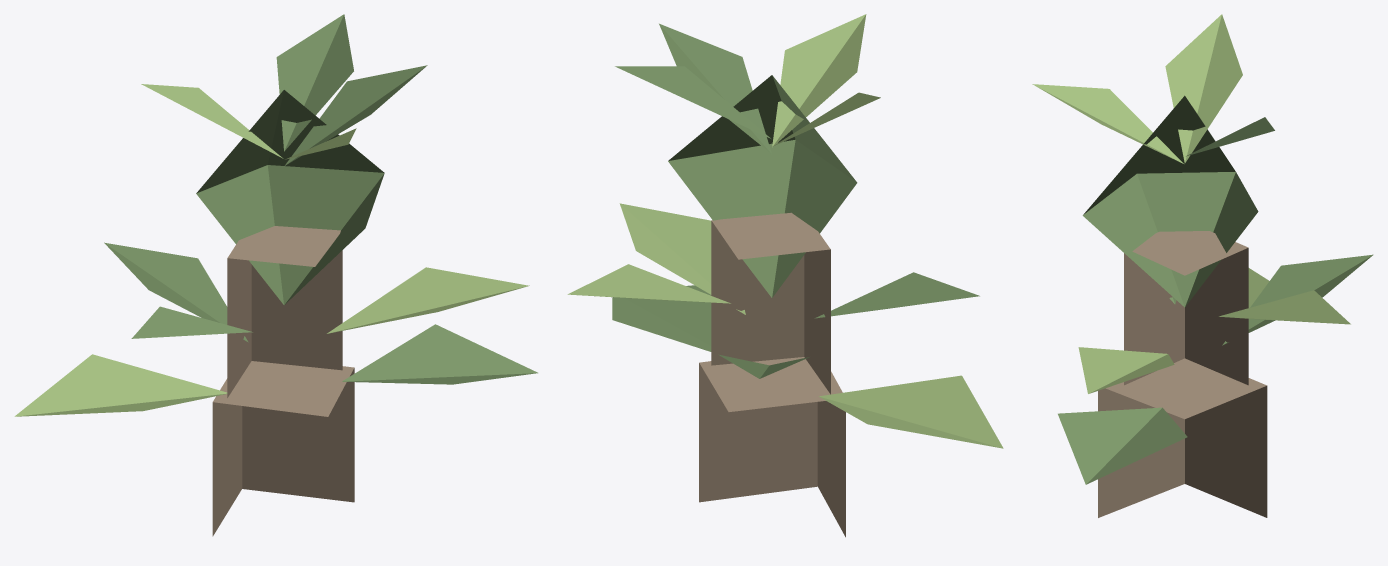
File: nong.su@seedling__bloom.glb
3 views of the same model, side by side, from view 1: azimuth 30°, elevation 25°; view 2: azimuth 150°, elevation 25°; view 3: azimuth 270°, elevation 25° (orthographic). The views are drawn at different scales.
Visible parts, largest first — view 1: nong.su@seedling__bloom; view 2: nong.su@seedling__bloom; view 3: nong.su@seedling__bloom.
Part boxes in pixels (x1,y1,x2,y2): nong.su@seedling__bloom: (14,14,537,536); nong.su@seedling__bloom: (567,14,1003,537); nong.su@seedling__bloom: (1032,14,1373,517).
Bounding box in the file's own units: 0.0984 × 0.0942 × 0.0657.
